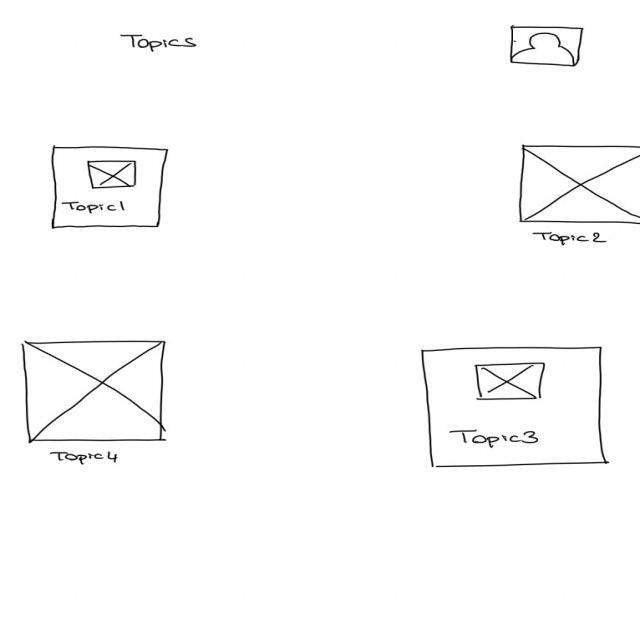container: (419, 345, 609, 468), (48, 144, 168, 230)
image: (20, 338, 166, 444), (517, 143, 640, 224), (506, 23, 586, 68), (472, 361, 548, 401), (85, 158, 139, 190)
label: (448, 427, 540, 451), (117, 32, 201, 53), (530, 230, 611, 249), (48, 450, 120, 466), (60, 200, 128, 214)
